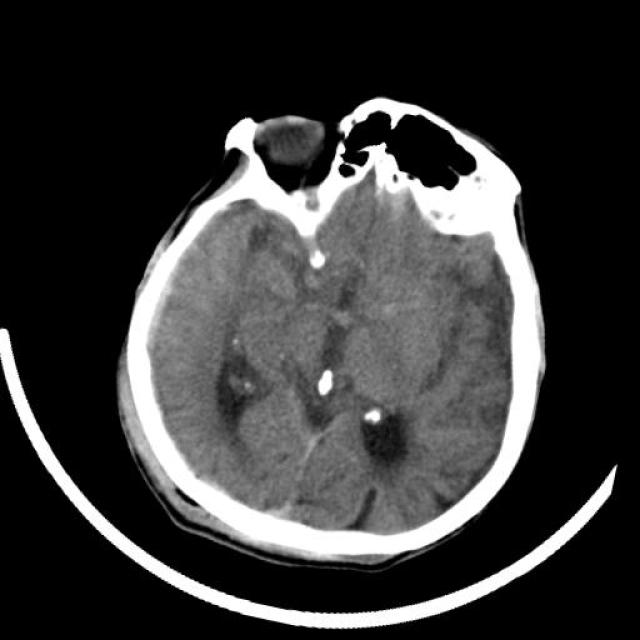Subdural: (100, 223, 216, 428)
